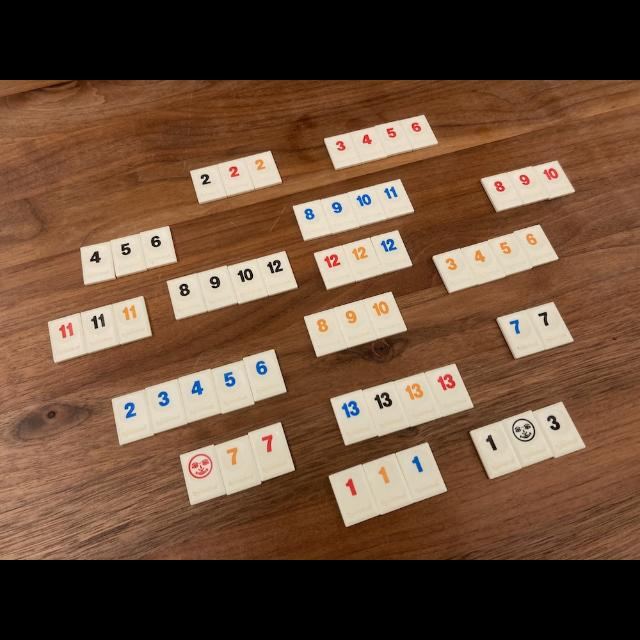black_1: (470, 421, 521, 479)
black_10: (229, 259, 268, 304)
black_11: (80, 305, 119, 354)
black_12: (258, 251, 298, 296)
black_13: (362, 381, 410, 436)
black_2: (190, 165, 228, 204)
black_3: (534, 402, 585, 458)
black_4: (81, 241, 115, 285)
black_5: (110, 234, 146, 278)
black_6: (141, 226, 178, 269)
black_7: (526, 302, 574, 350)
black_8: (168, 274, 208, 320)
black_9: (198, 266, 238, 311)
blue_1: (396, 442, 446, 502)
blue_10: (348, 186, 386, 226)
blue_11: (375, 179, 414, 219)
blue_12: (371, 231, 412, 274)
blue_13: (330, 390, 378, 445)
blue_2: (111, 390, 154, 445)
blue_3: (145, 379, 188, 434)
blue_4: (179, 369, 220, 422)
blue_5: (211, 361, 254, 414)
blue_6: (244, 349, 286, 401)
blue_7: (496, 310, 544, 359)
blue_8: (293, 200, 331, 241)
blue_9: (321, 194, 359, 234)
joker: (501, 411, 552, 466), (181, 445, 226, 505)
orange_1: (362, 454, 414, 515)
orange_10: (364, 291, 406, 339)
orange_11: (113, 296, 151, 344)
orange_12: (343, 238, 384, 281)
orange_13: (394, 372, 441, 426)
orange_2: (245, 151, 281, 190)
orange_3: (433, 249, 478, 294)
orange_4: (461, 241, 505, 285)
orange_5: (489, 234, 531, 276)
orange_6: (514, 225, 558, 266)
orange_7: (216, 435, 261, 495)
orange_8: (304, 309, 348, 356)
orange_9: (334, 300, 378, 348)
red_1: (329, 465, 380, 526)
red_10: (532, 161, 575, 199)
red_11: (49, 314, 86, 362)
red_12: (314, 246, 355, 290)
red_13: (425, 364, 474, 416)
red_2: (218, 158, 255, 196)
red_3: (324, 132, 361, 170)
red_4: (351, 128, 388, 162)
red_5: (375, 121, 412, 156)
red_6: (401, 115, 438, 150)
red_7: (249, 422, 295, 481)
red_8: (481, 172, 522, 212)
red_9: (508, 166, 549, 205)
